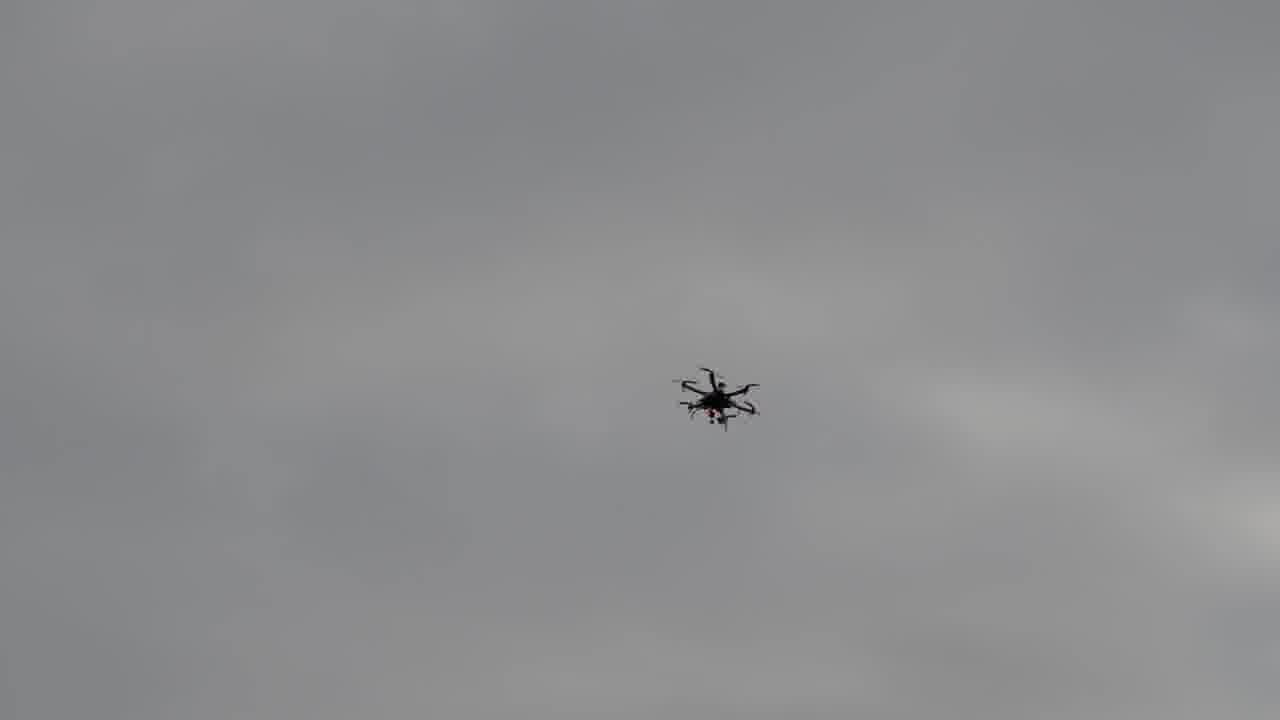drone: (663, 360, 771, 437)
